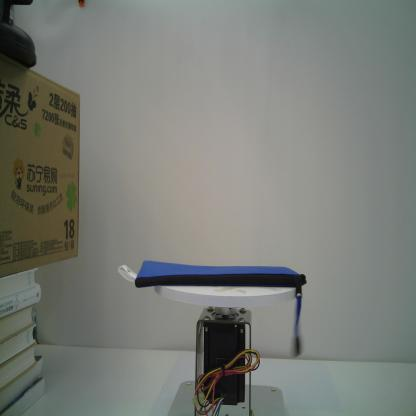Stationery: (135, 260, 306, 358)
